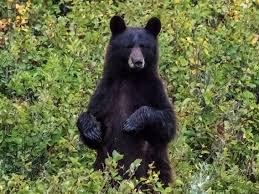bear: (77, 16, 177, 187)
